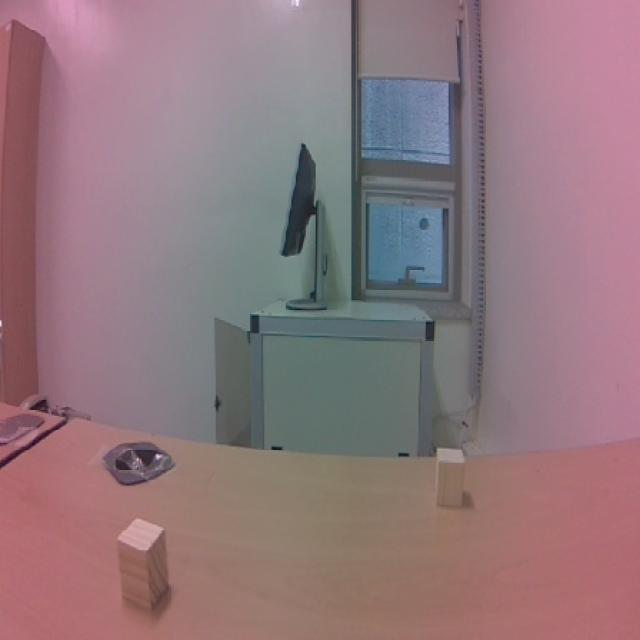obstacle: (109, 510, 179, 619), (427, 444, 472, 515)
